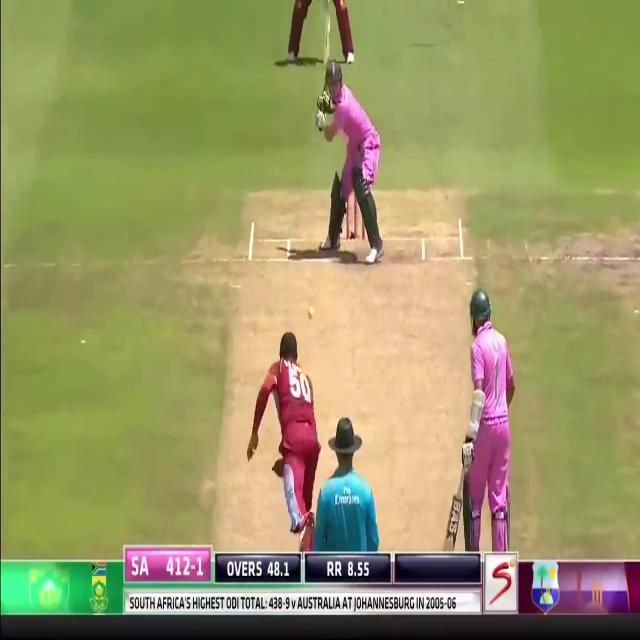Ball: (453, 291, 516, 552), (316, 64, 384, 260)
Fielder: (252, 331, 324, 551), (316, 64, 384, 262), (286, 0, 335, 64)
Umpire: (313, 417, 382, 554)
